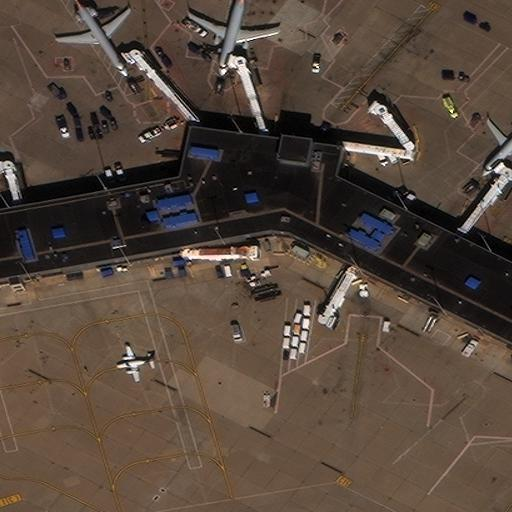Medium Civil Transport: (188, 0, 278, 76), (57, 0, 131, 76), (480, 114, 512, 177)
Small Civil Transport: (117, 346, 153, 380)
